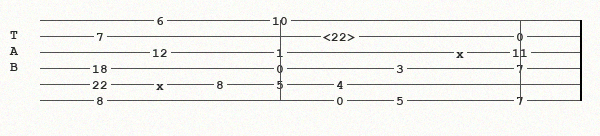0: (276, 62, 288, 74), (336, 94, 348, 106), (516, 30, 528, 42)
1: (276, 46, 288, 58)
10: (272, 14, 292, 26)
11: (512, 46, 532, 58)
12: (152, 46, 172, 58)
18: (92, 62, 112, 74)
22: (92, 78, 112, 90)
3: (396, 62, 408, 74)
4: (336, 78, 348, 90)
5: (276, 78, 288, 90), (396, 94, 408, 106)
6: (156, 14, 168, 26)
7: (96, 30, 108, 42), (516, 62, 528, 74), (516, 94, 528, 106)
8: (96, 94, 108, 106), (216, 78, 228, 90)
harmonic: (323, 30, 360, 42)
x: (156, 79, 168, 89), (456, 47, 468, 57)
